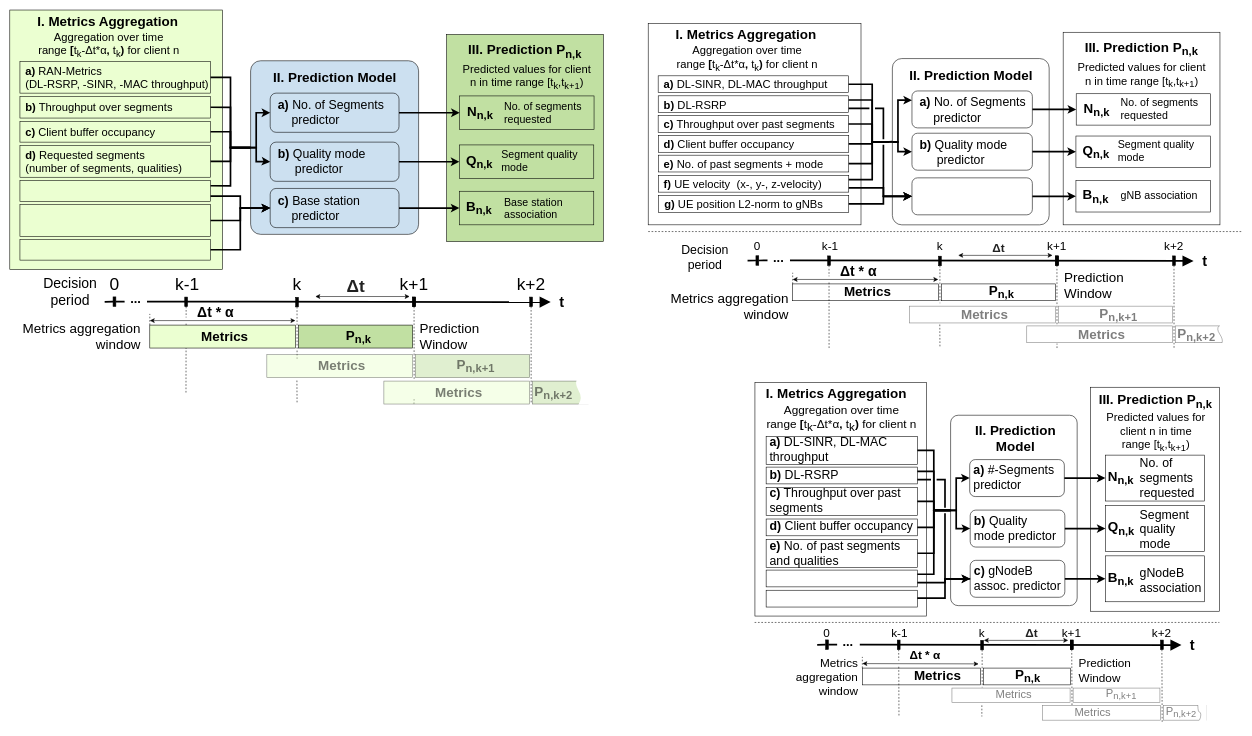
This 1252x736 diagram has some shape labels left out. Here are the shapes that lost their labels. From the top down, the centre of each, then its label:
At pixel 114 190: "e) UE velocity (x, y, z velocity)".
At pixel 971 196: "c) gNB assoc. predictor".
At pixel 114 220: "f) UE distance to each base station (euclidean distance to each BS)".
At pixel 114 249: "g) last gNodeB association".
At pixel 841 578: "f) UE velocity".
At pixel 841 598: "g) UE-gNodeBs distance".
